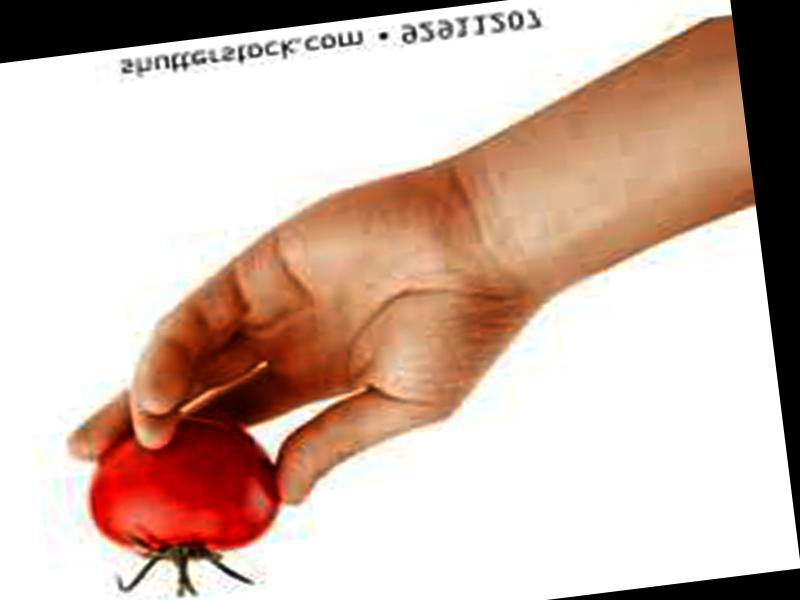Tomato: (79, 405, 286, 567)
